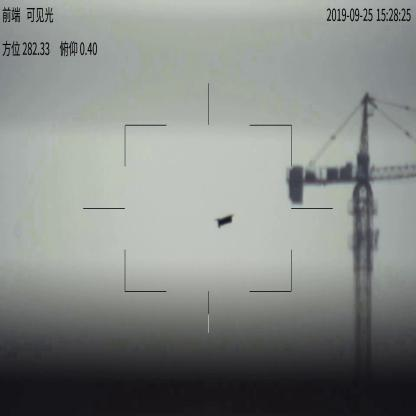uav: (216, 214, 235, 228)
